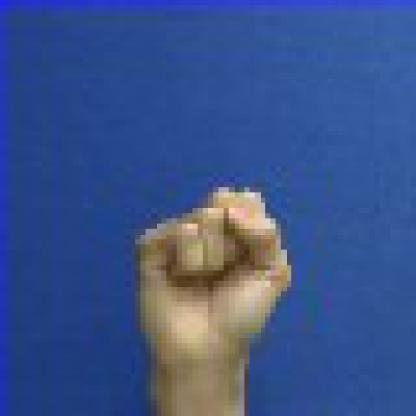zero: (123, 169, 311, 364)
